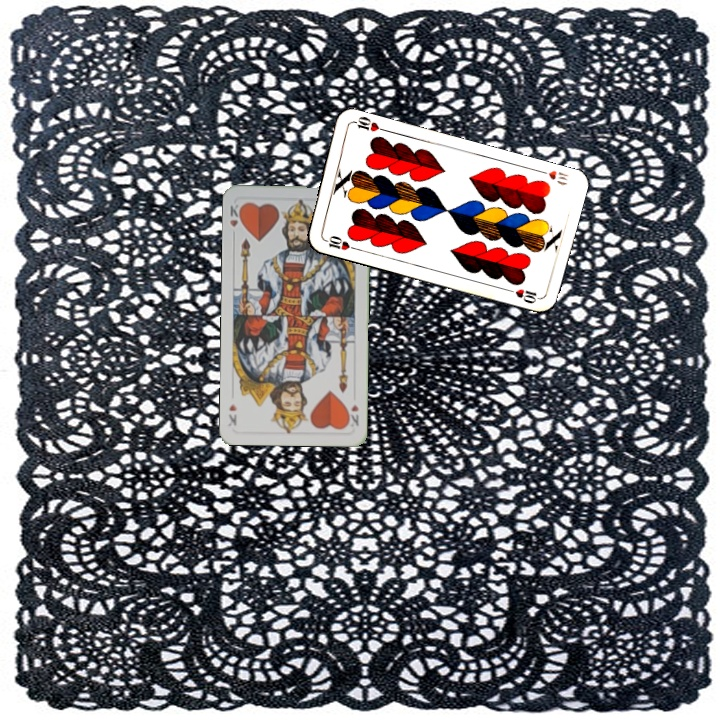H10: (533, 165, 571, 188), (319, 232, 359, 253)
HK: (226, 200, 245, 240), (343, 400, 361, 429)
